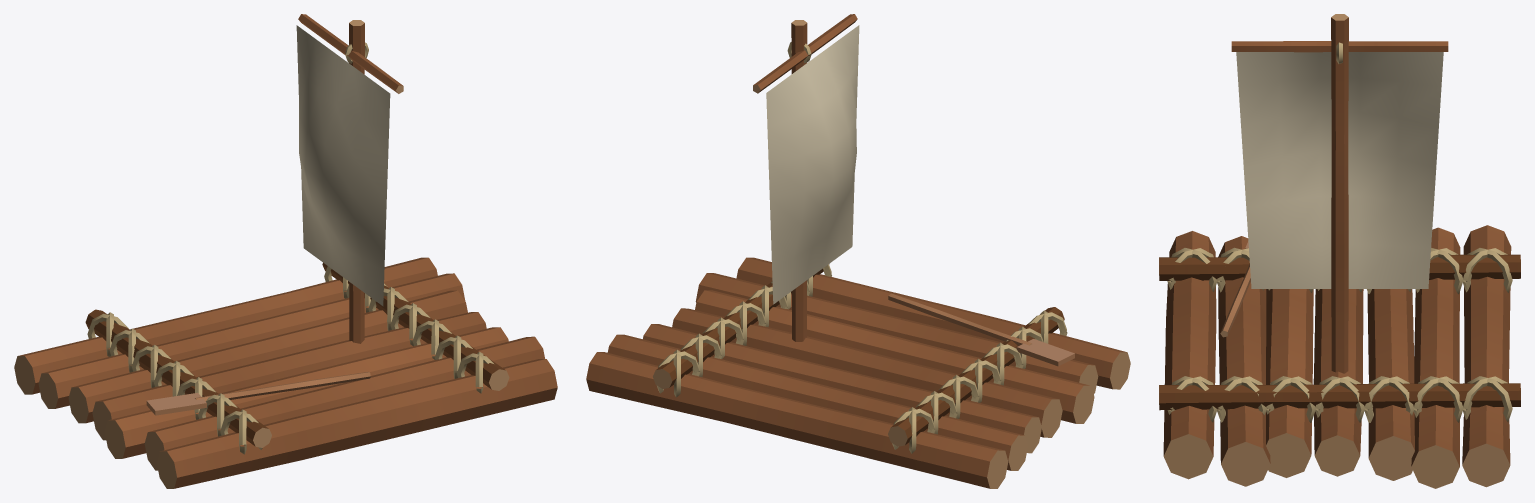
File: raft.glb
The picture shows the model from 3 angles, left to right: view 1: azimuth 30°, elevation 25°; view 2: azimuth 150°, elevation 25°; view 3: azimuth 270°, elevation 25°; orthographic projection. The views are drawn at different scales.
Visible parts, largest first — view 1: raft; view 2: raft; view 3: raft.
Boxes of the visible parts, x1,y1,x2,y2 form: raft: (14,14,557,488); raft: (586,14,1130,488); raft: (1159,14,1520,488).
Bounding box in the file's own units: 3.61 × 3.02 × 2.5.
